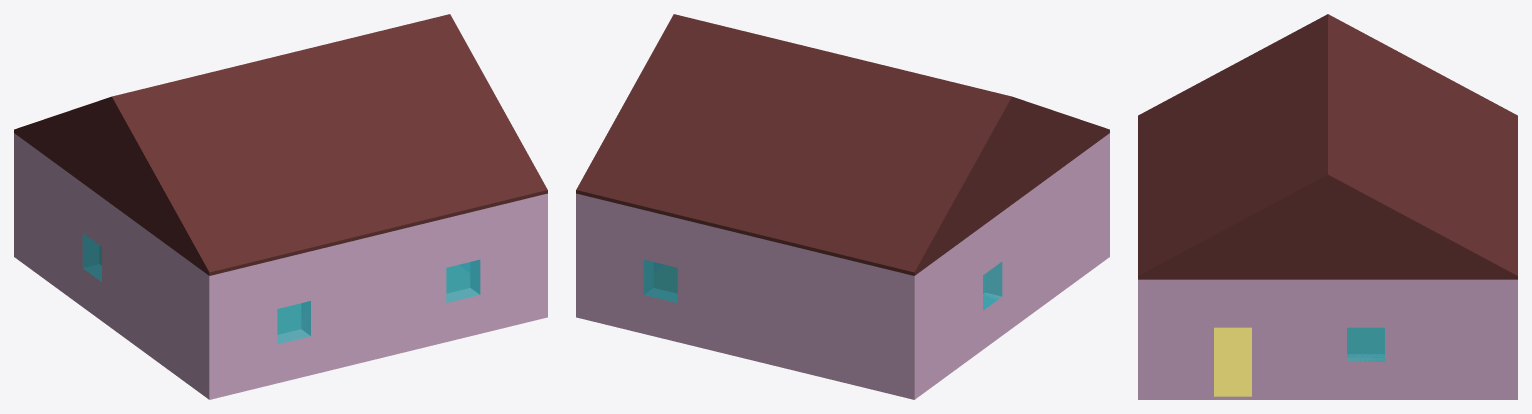
File: House3b.fbx
The picture shows the model from 3 angles, left to right: view 1: azimuth 30°, elevation 25°; view 2: azimuth 150°, elevation 25°; view 3: azimuth 270°, elevation 25°; orthographic projection. The views are drawn at different scales.
Visible parts, largest first — view 1: Roof, Building, WindowGlass1, WindowGlass2, WindowGlass4; view 2: Roof, Building, WindowGlass3, WindowGlass4; view 3: Roof, Building, WindowGlass5, DoorFloor1.
Part boxes in pixels (bbox=[...]): Roof: bbox=[14, 14, 547, 275]; Building: bbox=[14, 133, 547, 399]; WindowGlass1: bbox=[446, 259, 480, 302]; WindowGlass2: bbox=[277, 301, 310, 344]; WindowGlass4: bbox=[82, 233, 101, 281]; Roof: bbox=[576, 14, 1109, 275]; Building: bbox=[576, 133, 1109, 399]; WindowGlass3: bbox=[643, 259, 677, 302]; WindowGlass4: bbox=[983, 261, 1002, 310]; Roof: bbox=[1138, 14, 1517, 279]; Building: bbox=[1138, 279, 1517, 399]; WindowGlass5: bbox=[1347, 327, 1384, 361]; DoorFloor1: bbox=[1214, 388, 1251, 399].
Size of the model in its own units: 2000 by 1310 by 2000.
